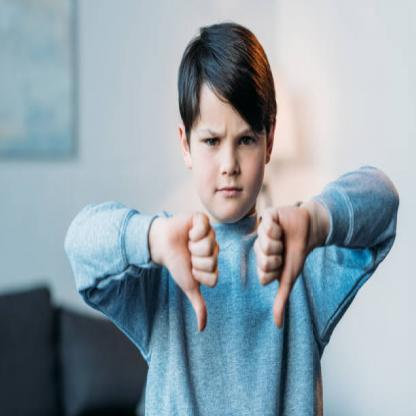thumb_down: (161, 204, 223, 336), (254, 198, 310, 330)
